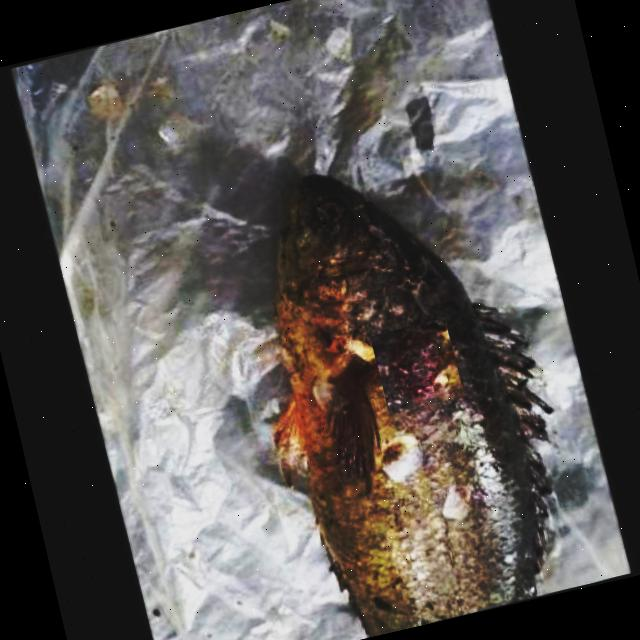Aeromonas Septicemia: (271, 172, 553, 637)
